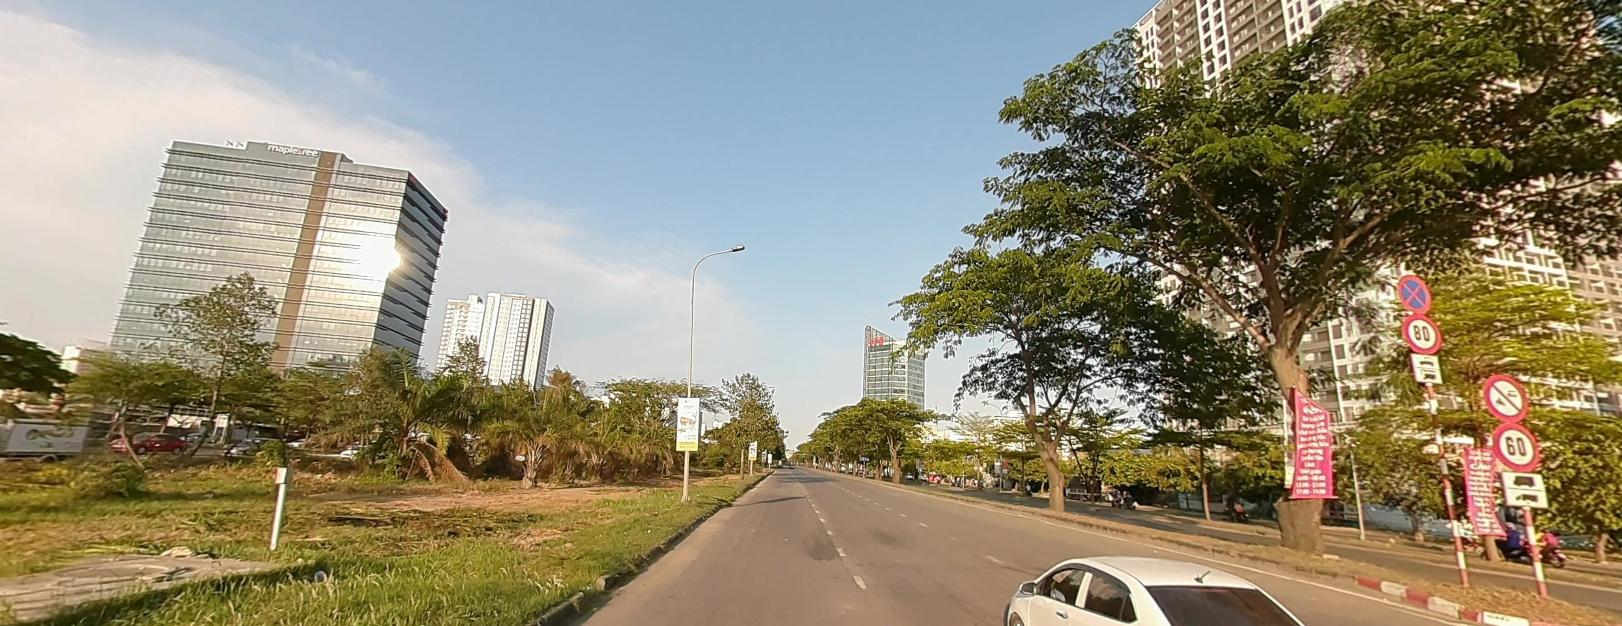Cam con lai: (1484, 369, 1527, 423)
Cam dung va do: (1394, 272, 1431, 312)
Gioi han toc do: (1486, 423, 1542, 469), (1399, 314, 1444, 353)
